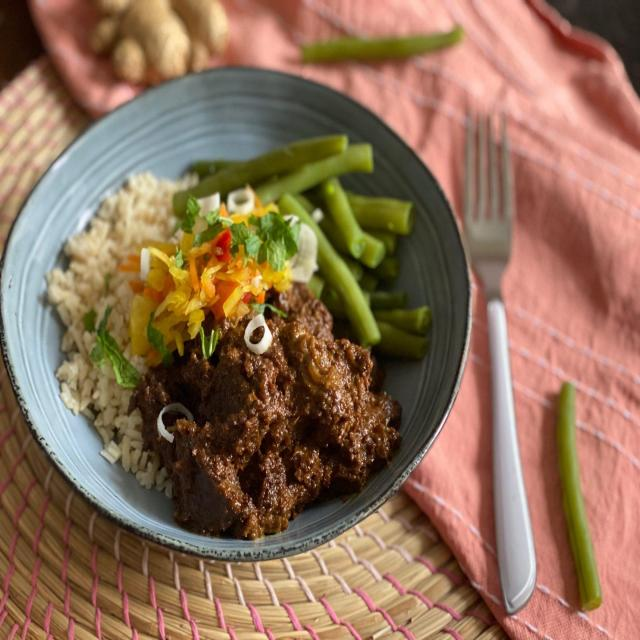Rendang: (147, 298, 402, 532)
